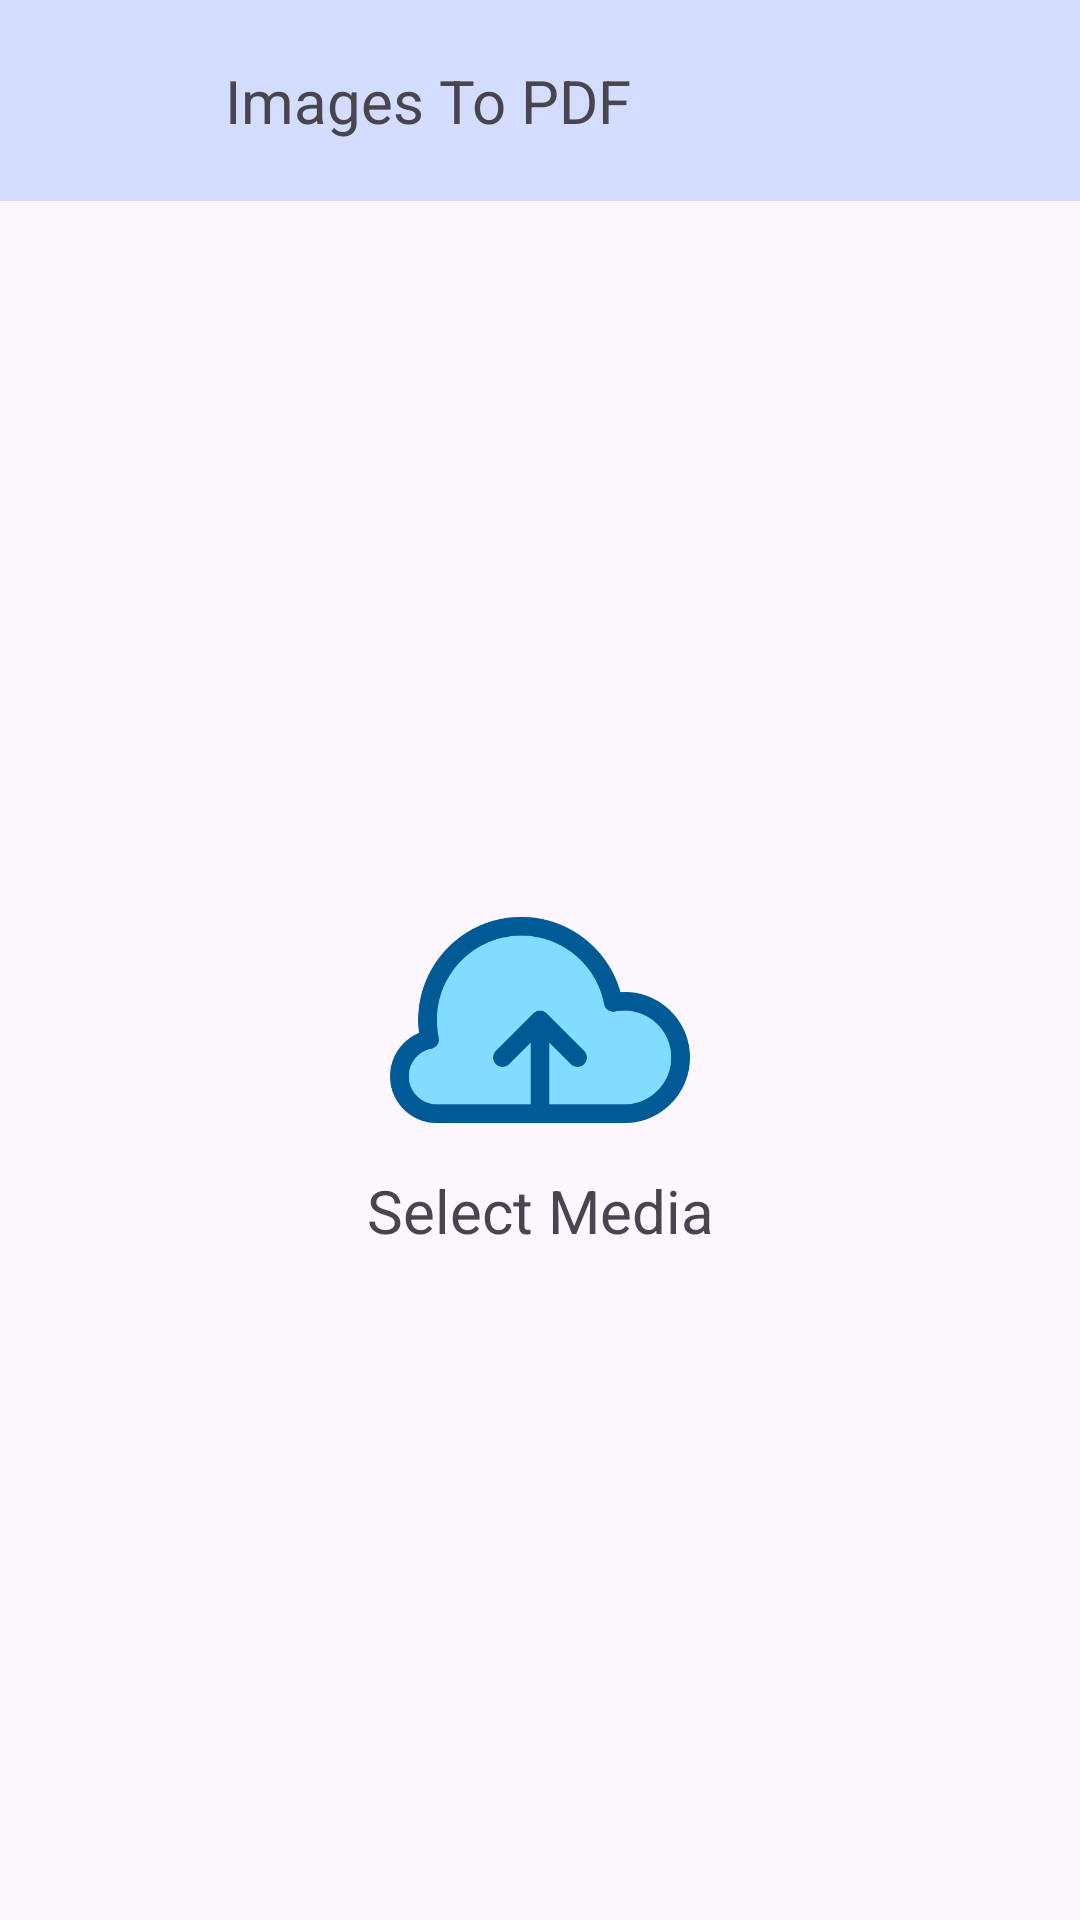

Named icons in this screenshot (1080x1920) and their centers, (x,y):
upload: (540,1020)
